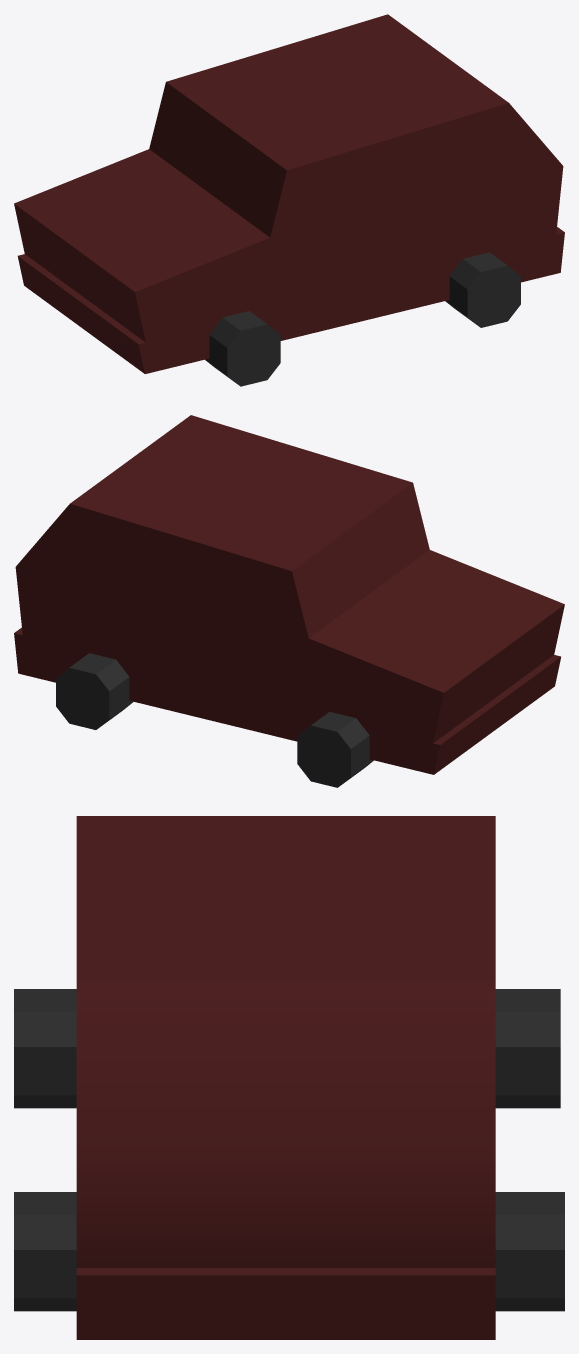
Rendered from carTESTER.fbx.
3 views of the same model, one above another, from view 1: azimuth 30°, elevation 25°; view 2: azimuth 150°, elevation 25°; view 3: azimuth 270°, elevation 25° (orthographic). The views are drawn at different scales.
Visible parts, largest first — view 1: pCube1, pasted__pCube2, pCube2; view 2: pCube1, pasted__pasted__pCube2, pasted__pCube2; view 3: pCube1, pasted__pCube2 (×2), pasted__pasted__pCube2, pCube2.
Boxes of the visible parts, left/top/right/bottom form: pCube1: left=14, top=14, right=564, bottom=373; pasted__pCube2: left=445, top=252, right=520, bottom=327; pCube2: left=205, top=311, right=280, bottom=386; pCube1: left=14, top=415, right=564, bottom=774; pasted__pasted__pCube2: left=56, top=653, right=133, bottom=729; pasted__pCube2: left=297, top=712, right=373, bottom=787; pCube1: left=76, top=816, right=495, bottom=1339; pasted__pCube2 (×2): left=14, top=989, right=560, bottom=1311; pasted__pasted__pCube2: left=495, top=1192, right=564, bottom=1311; pCube2: left=14, top=989, right=76, bottom=1108.
Bounding box in the file's own units: 14.23 × 6.35 × 9.13.
